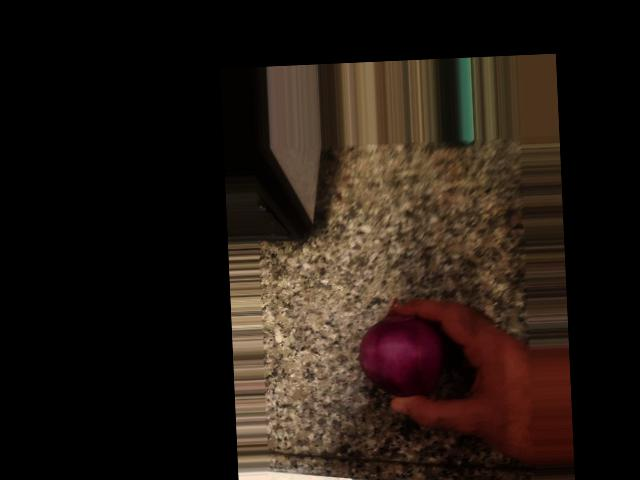onion: (268, 243, 359, 330)
